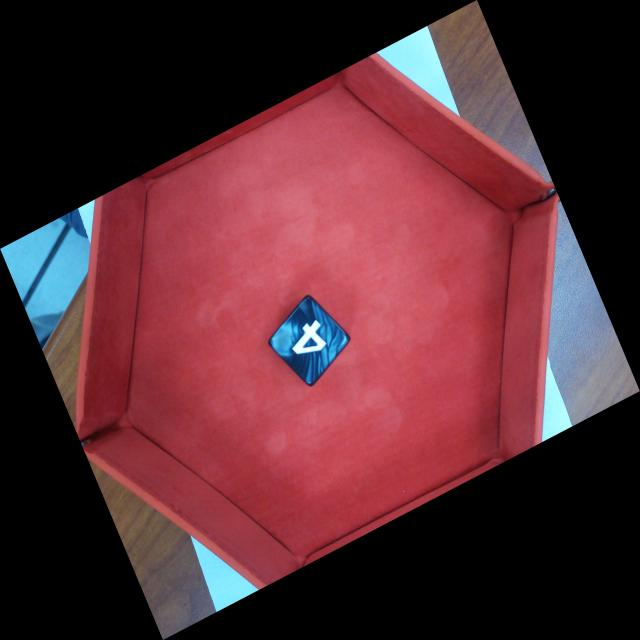dice: (269, 295, 351, 386)
